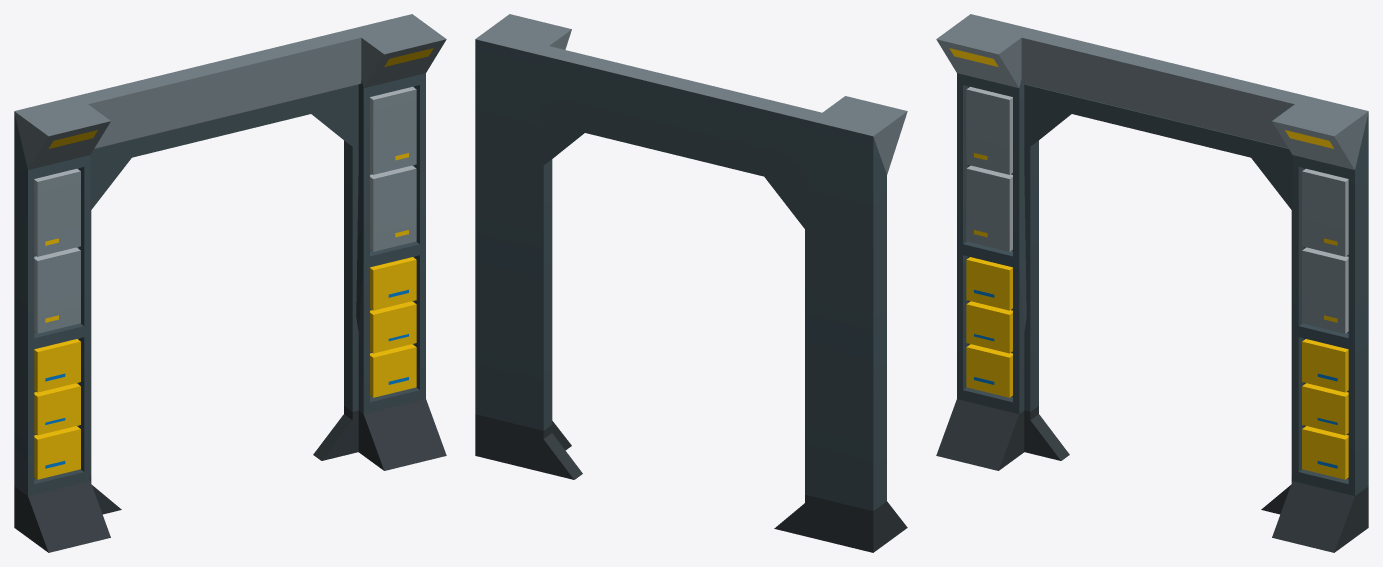
File: Wall_type_C_052.fbx
3 renders of one model, left to right at view 1: azimuth 30°, elevation 25°; view 2: azimuth 150°, elevation 25°; view 3: azimuth 330°, elevation 25°, orthographic.
Parts seen in each view (by area): view 1: Wall_type_C_052; view 2: Wall_type_C_052; view 3: Wall_type_C_052.
Boxes of the visible parts, x1,y1,x2,y2 form: Wall_type_C_052: (14, 14, 446, 552); Wall_type_C_052: (475, 14, 907, 552); Wall_type_C_052: (936, 14, 1368, 552).
Size of the model in its own units: 400 by 60 by 400.
